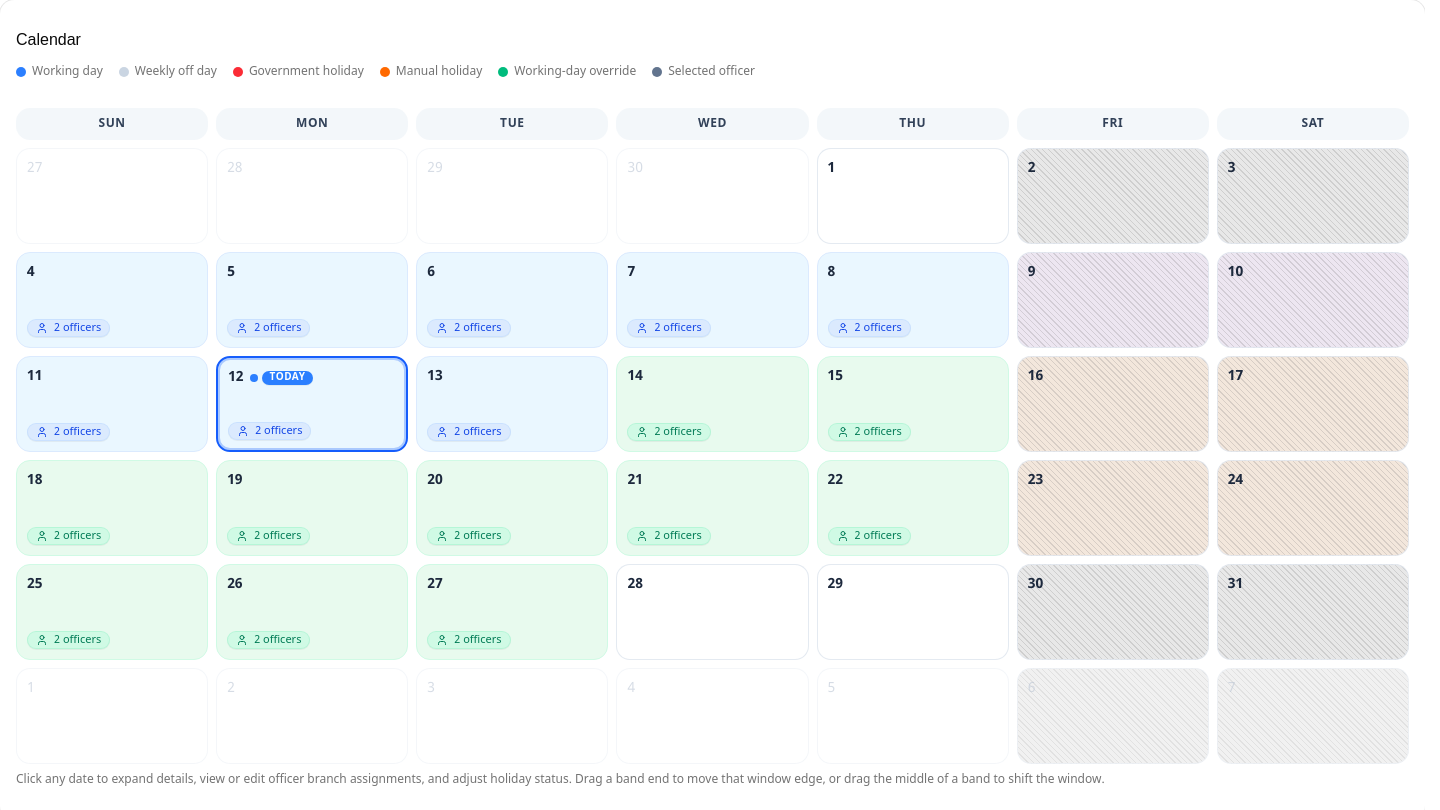
Test case: PlannerCalendar officer assignments & Google Calendar modal › provides a prominent Done button in the header to close the modal
// Open dialog
Click the button "4 2 officers": (112,300) [16,252,208,348]
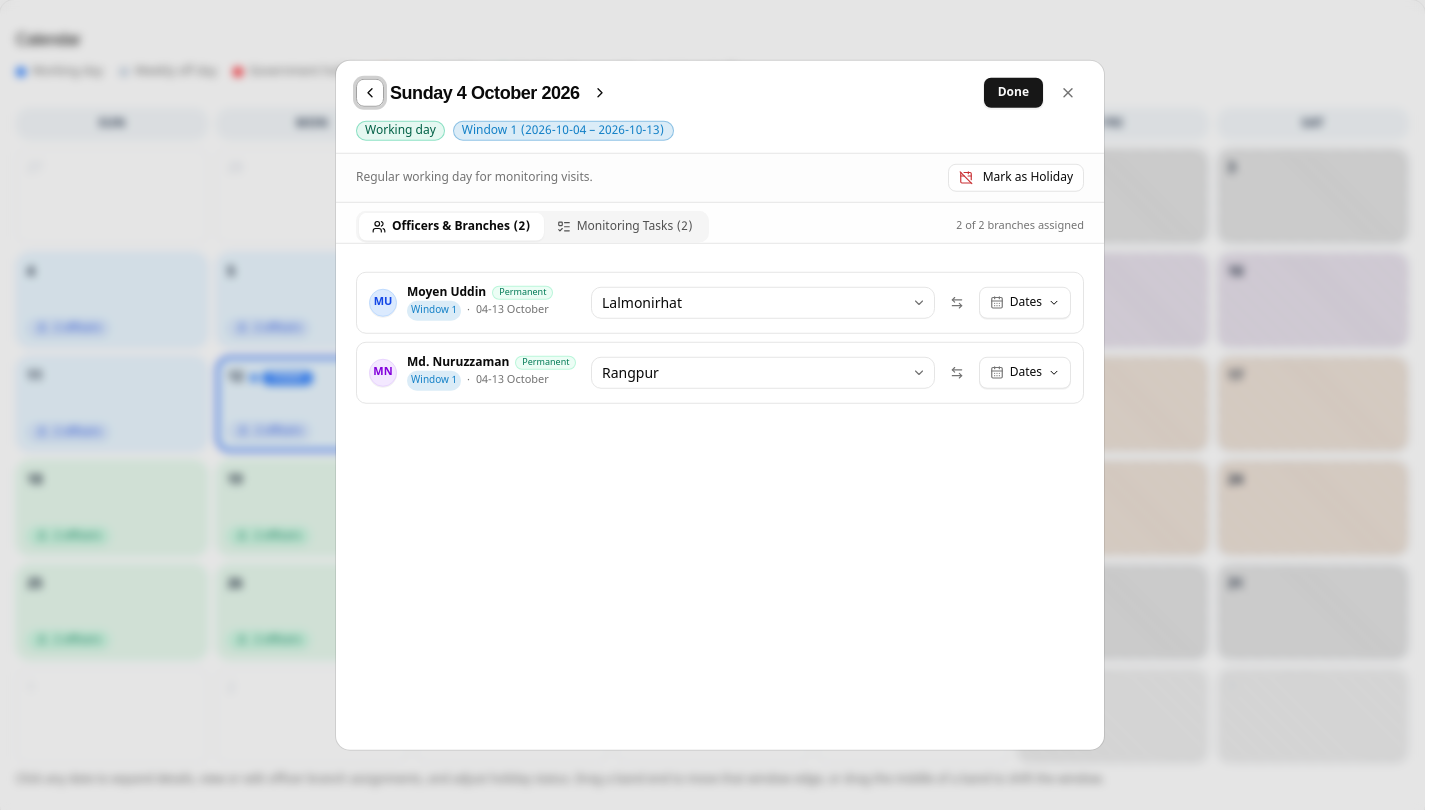
Check: the dialog is shown, box [336,61,1104,749]
Check: the button "Done" is shown
// Click Done button
Click the button "Done": (1013,93) [983,77,1044,109]
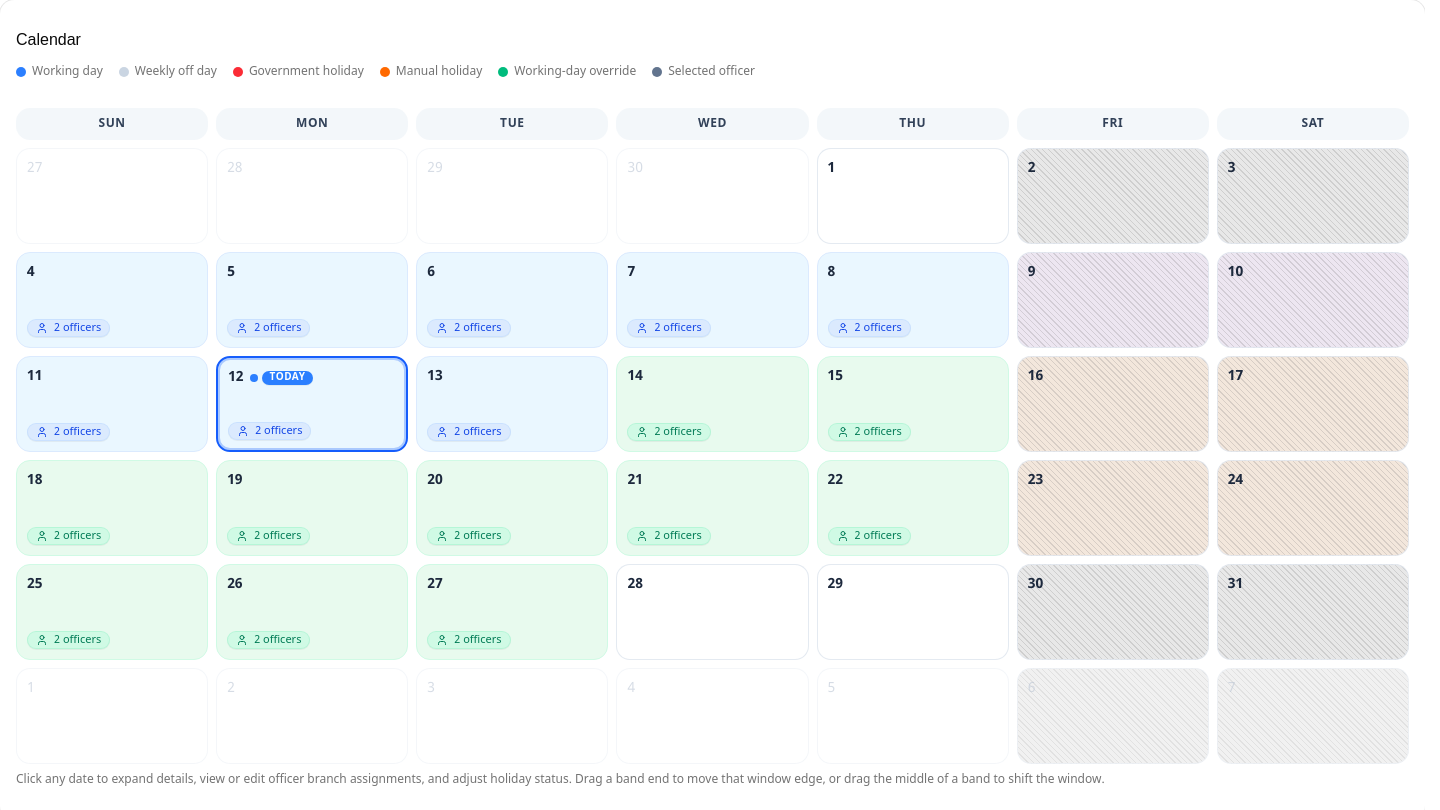
Check: the dialog is gone
